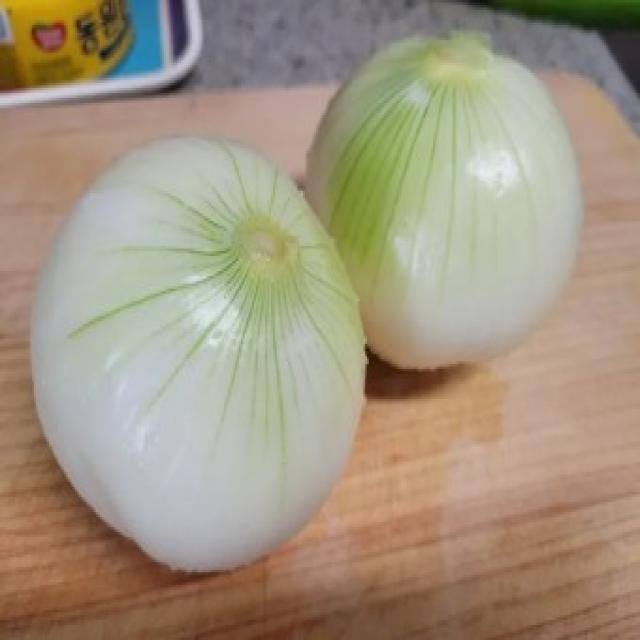Onion: (28, 134, 367, 573), (305, 28, 582, 368)
